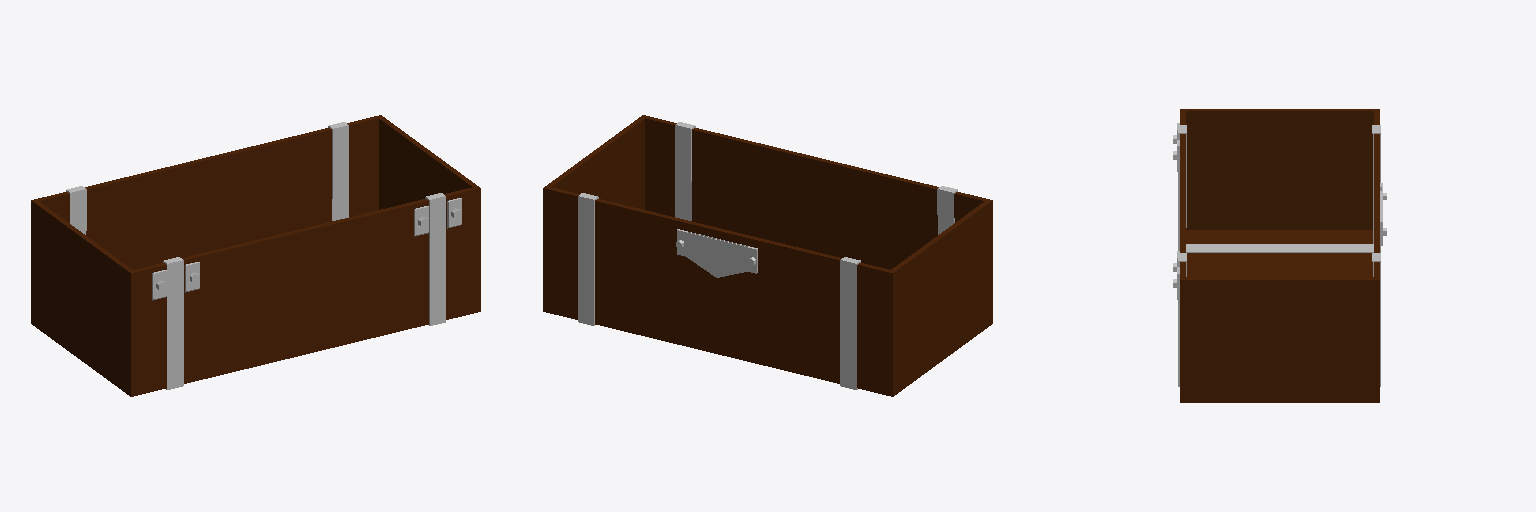
File: IceChest.obj
The picture shows the model from 3 angles: view 1: azimuth 30°, elevation 25°; view 2: azimuth 150°, elevation 25°; view 3: azimuth 270°, elevation 25°; orthographic projection.
Visible parts, largest first — view 1: Chest_Cube.062; view 2: Chest_Cube.062; view 3: Chest_Cube.062.
Part boxes in pixels (bbox=[...]): Chest_Cube.062: bbox=[31, 115, 480, 396]; Chest_Cube.062: bbox=[543, 115, 992, 396]; Chest_Cube.062: bbox=[1173, 109, 1386, 402].
Bounding box in the file's own units: 1.45 × 0.5014 × 0.7719.